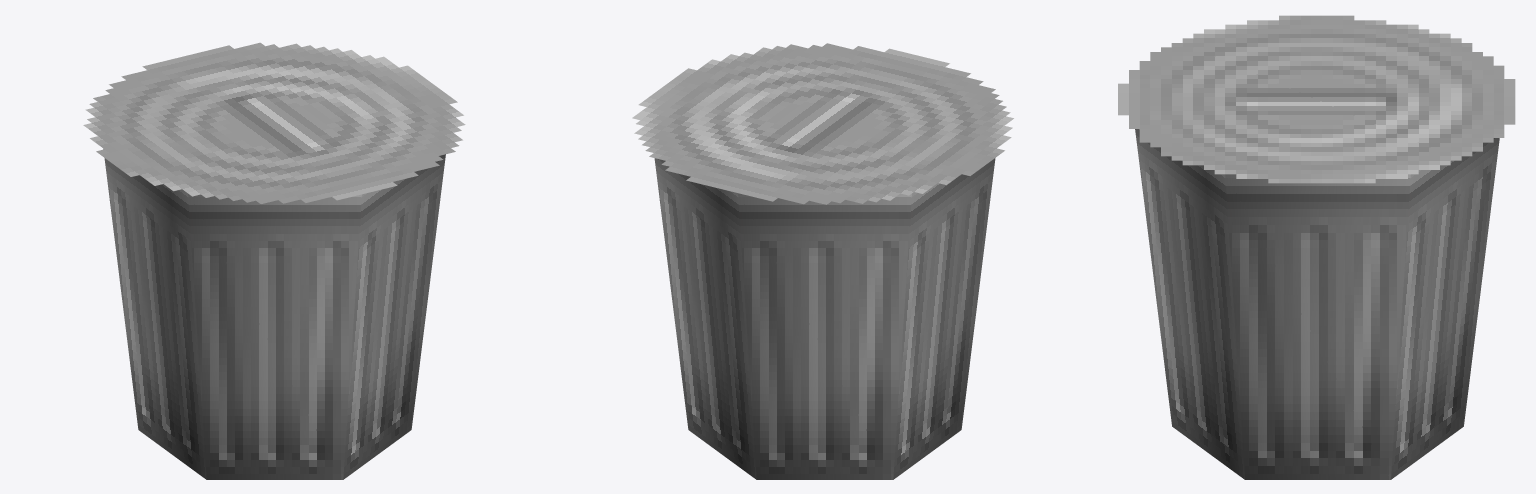
Rendered from Trashcan.fbx.
3 views of the same model, side by side, from view 1: azimuth 30°, elevation 25°; view 2: azimuth 150°, elevation 25°; view 3: azimuth 270°, elevation 25° (orthographic). The views are drawn at different scales.
Visible parts, largest first — view 1: Окружность; view 2: Окружность; view 3: Окружность.
Part boxes in pixels (x1,y1,x2,y2): Окружность: (83,42,465,479); Окружность: (632,43,1013,479); Окружность: (1118,15,1515,479).
Size of the model in its own units: 280 by 247 by 280.
Materials: 1 (1 with a texture image).
